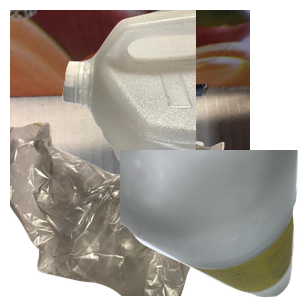cardboard: (10, 10, 250, 190)
glass: (120, 150, 300, 300)
plastic: (60, 10, 300, 190)
trash: (10, 120, 231, 300)
